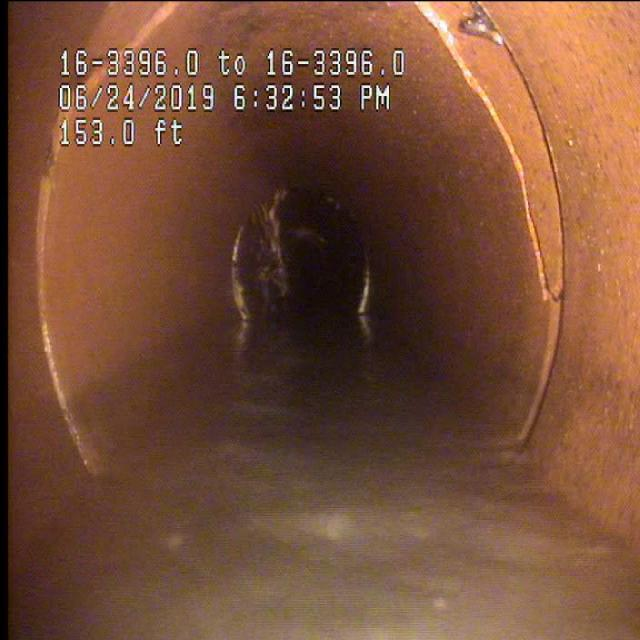Crack: (484, 117, 559, 324)
